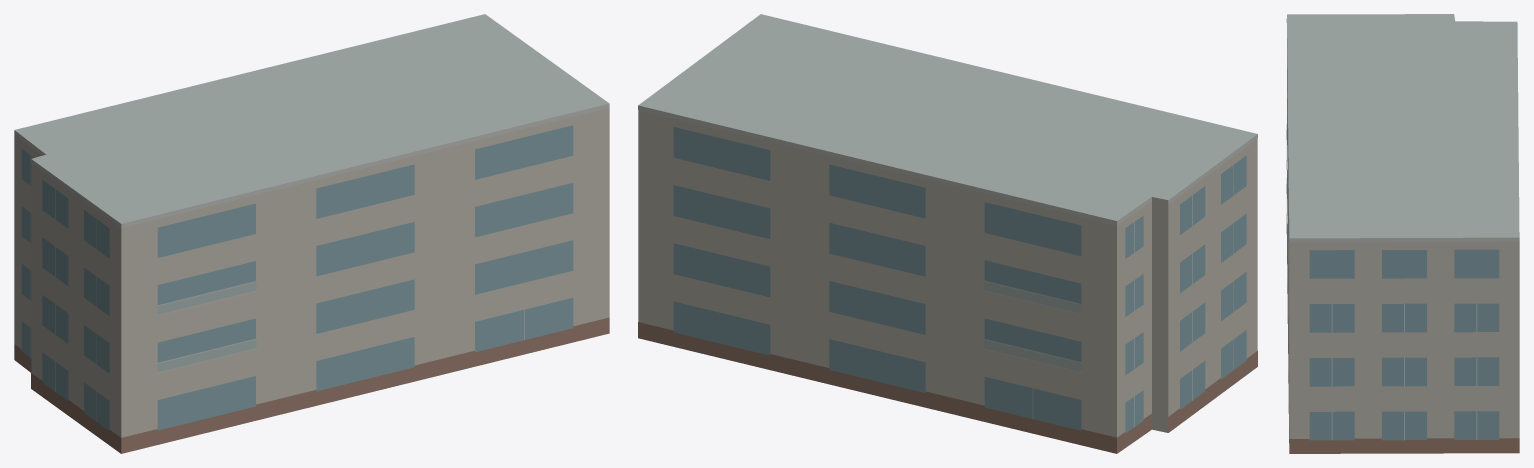
Rendered from survey-upis-32796910.glb.
3 renders of one model, left to right at view 1: azimuth 30°, elevation 25°; view 2: azimuth 150°, elevation 25°; view 3: azimuth 270°, elevation 25°, orthographic. The views are drawn at different scales.
Parts seen in each view (by area): view 1: survey-upis-32796910.tmp; view 2: survey-upis-32796910.tmp; view 3: survey-upis-32796910.tmp.
Part boxes in pixels (left/top/right/bottom): survey-upis-32796910.tmp: left=14, top=14, right=609, bottom=453; survey-upis-32796910.tmp: left=638, top=14, right=1257, bottom=453; survey-upis-32796910.tmp: left=1286, top=14, right=1519, bottom=453.
Bounding box in the file's own units: 28.45 × 12.74 × 12.5.
